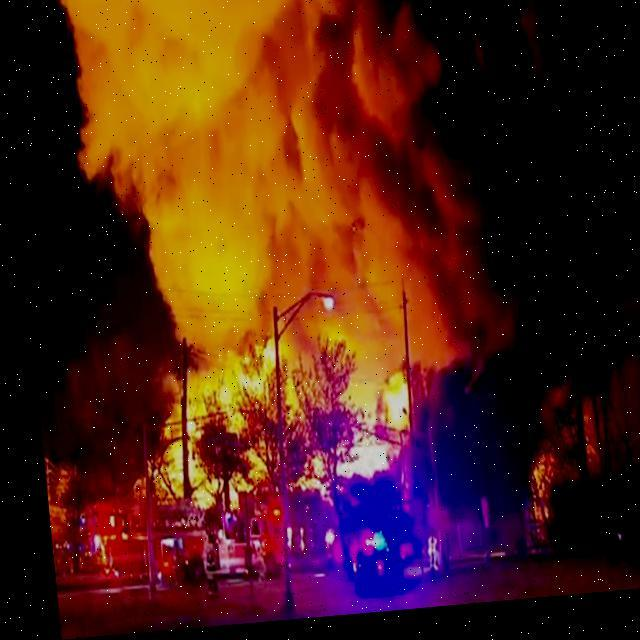Fire: (146, 315, 418, 525)
